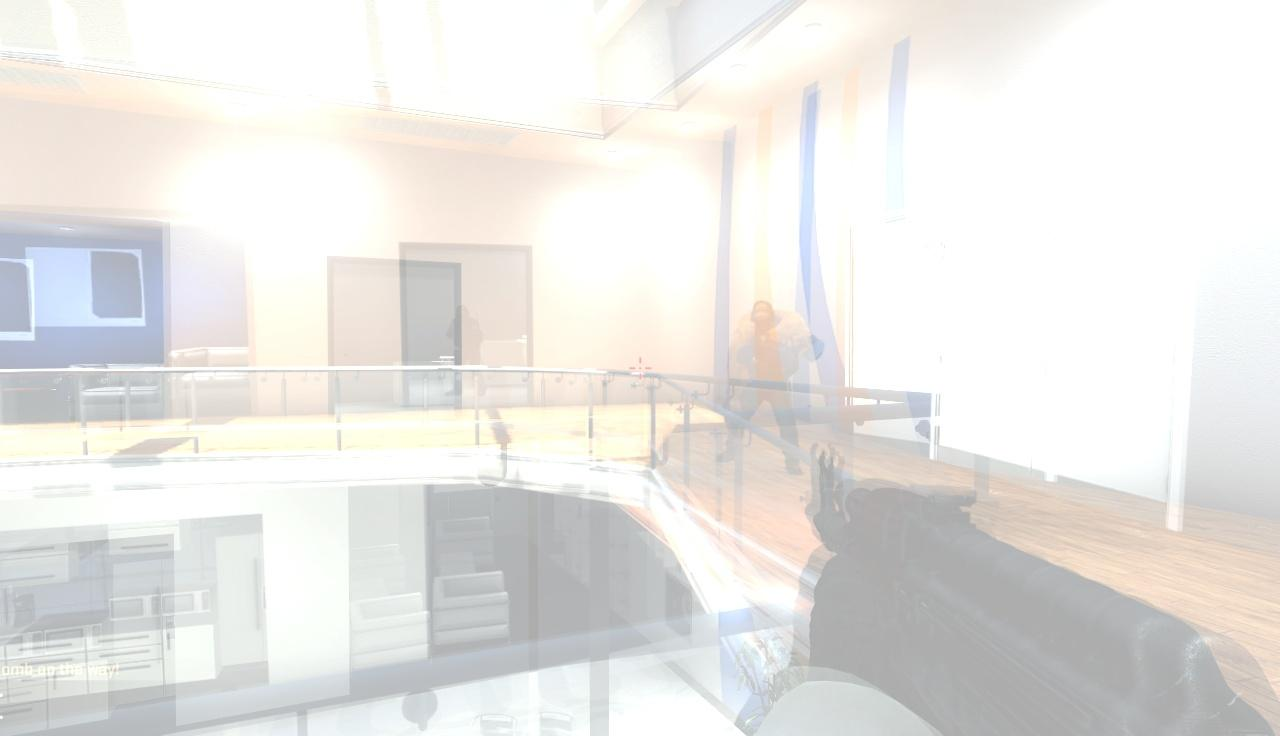ct: (728, 303, 800, 471), (445, 305, 483, 397)
cthead: (750, 302, 775, 328), (453, 305, 471, 320)
rifle: (790, 438, 1280, 736)
